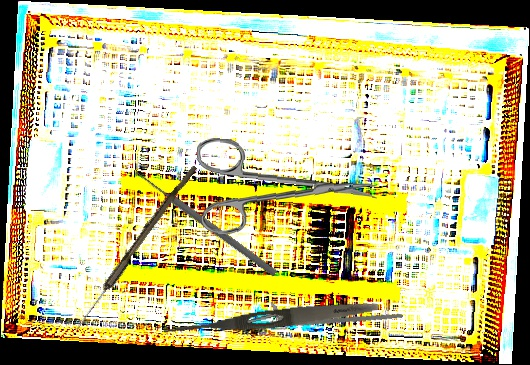Dressing Forceps: (159, 296, 381, 343)
Iris Scissors: (192, 137, 380, 242)
Needle Holder: (217, 278, 404, 353)
Pusher: (132, 167, 279, 278)
Surgical Spoon: (72, 162, 198, 334)
